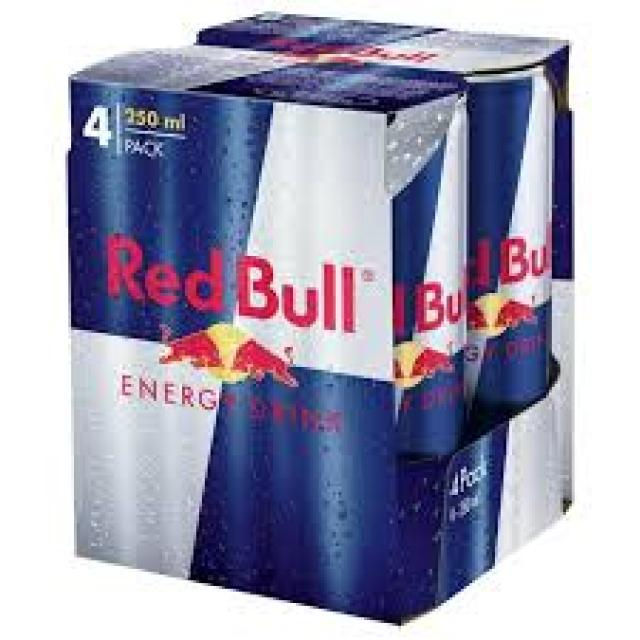red-bull: (64, 3, 576, 600)
